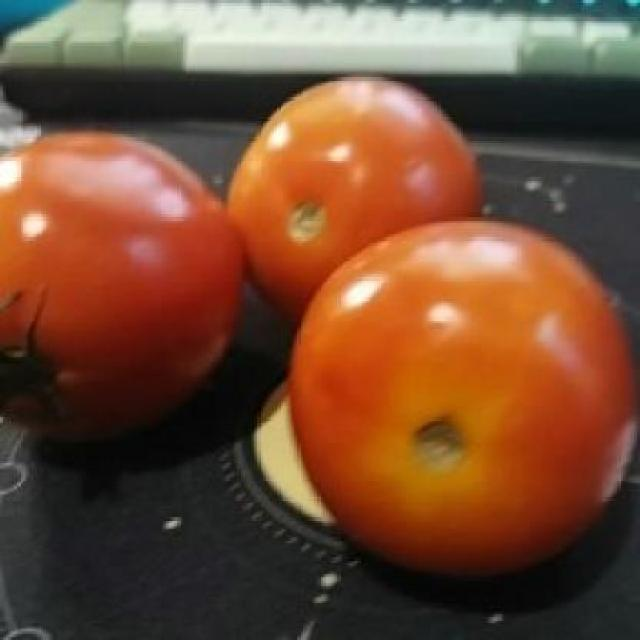Fresh Tomato: (286, 186, 640, 597), (0, 127, 244, 439), (218, 56, 479, 298)
